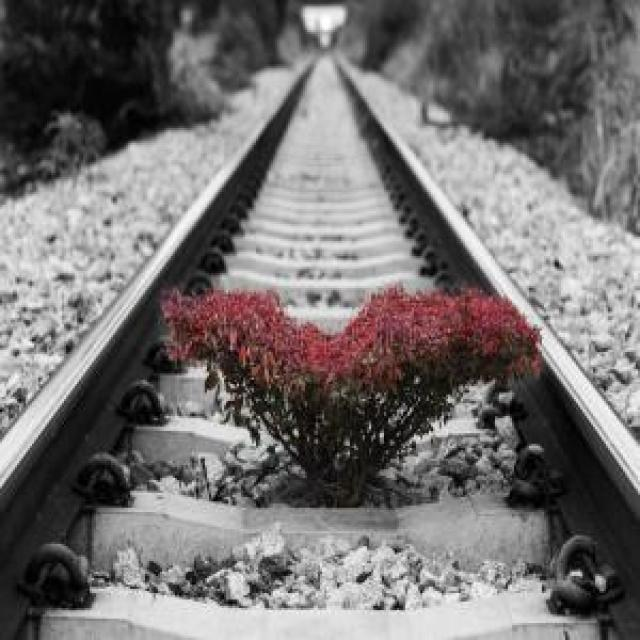rail: (1, 50, 640, 640)
